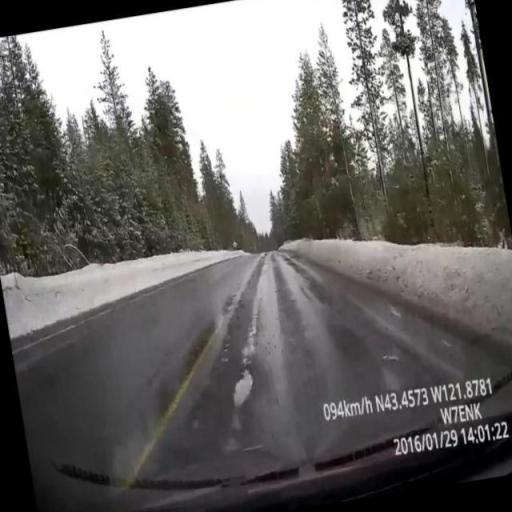pothole: (232, 365, 255, 411)
